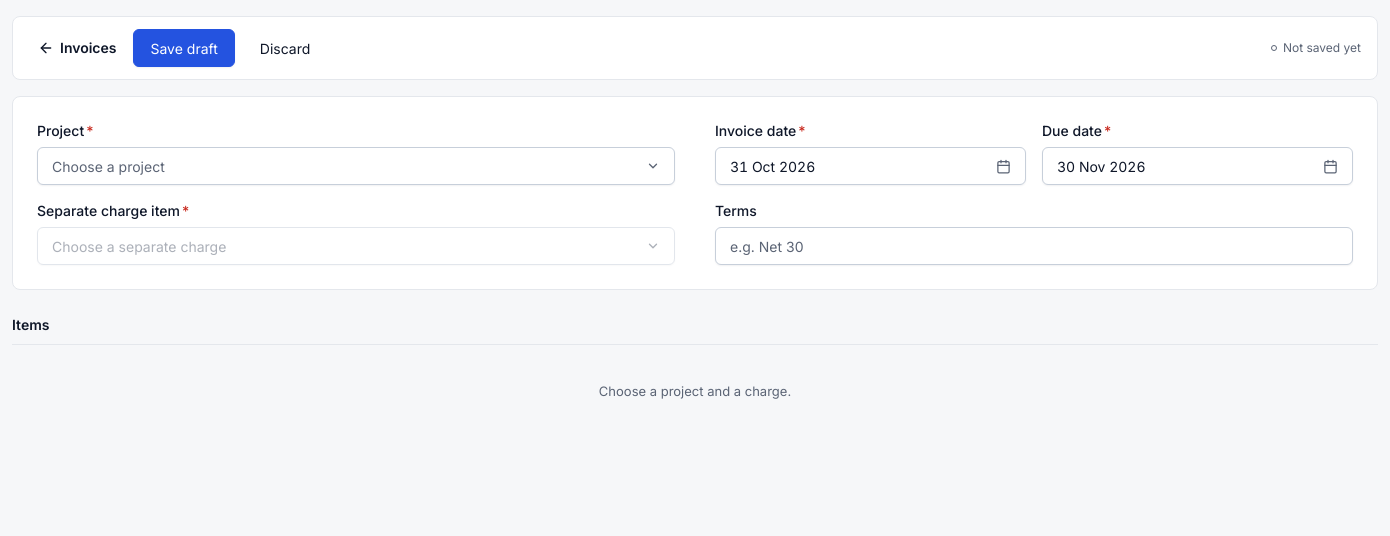
Scenario: InvoiceCreate › shows the source as one read-only line with its amount, and the derived client
This screenshot has width=1390, height=536.
Click the dropdown labelled "Choose a project".
click(108, 166)  # box [37,147,675,185]
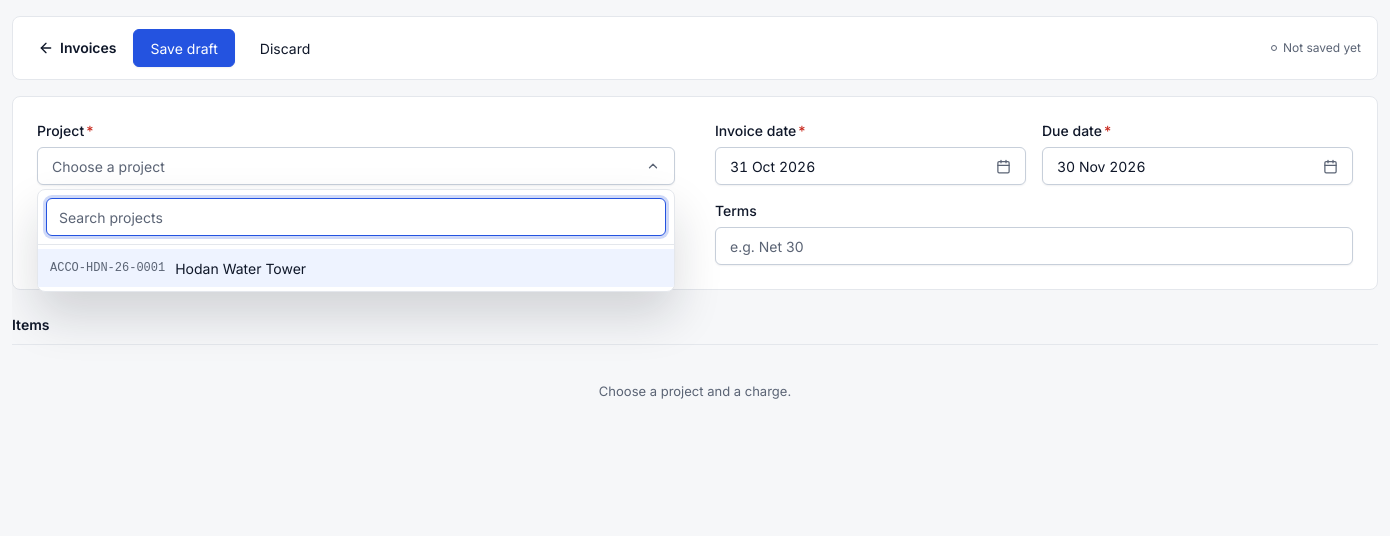
Click the option "ACCO-HDN-26-0001 Hodan Water Tower".
click(108, 268)  # box [38,249,674,287]
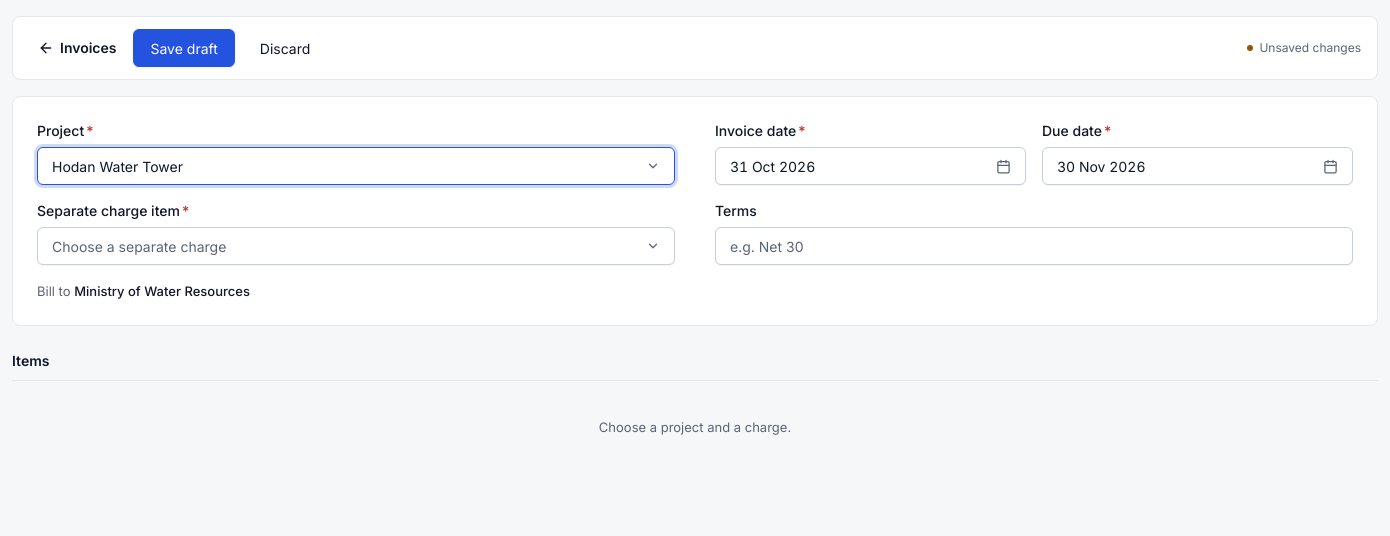
Result: the dropdown named "Separate charge item" is enabled
Click the dropdown named "Separate charge item".
click(139, 246)  # box [37,227,675,265]
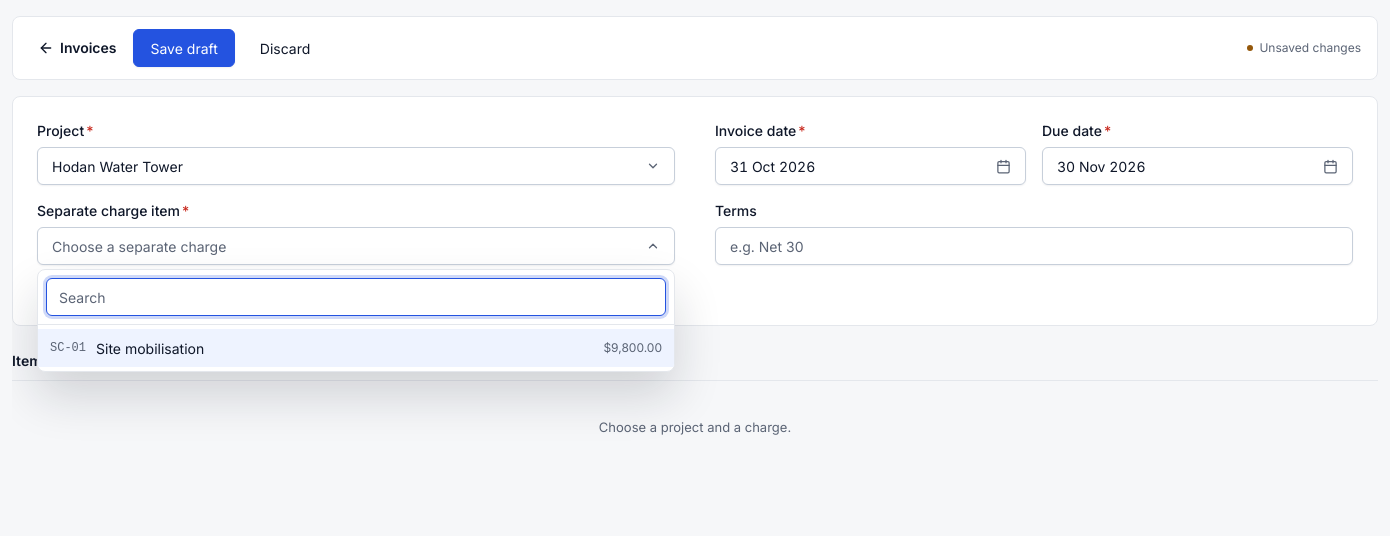
Click the option "SC-01 Site mobilisation $9,800.00".
click(68, 348)  # box [38,329,674,367]
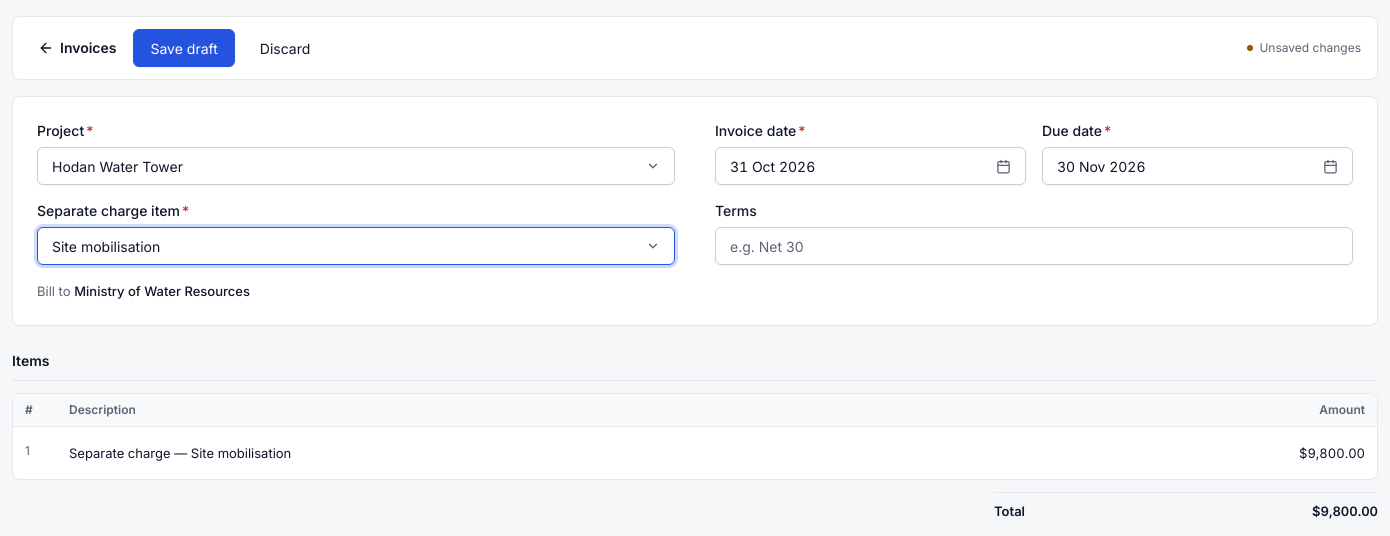
Result: the text "Ministry of Water Resources" is shown at [74,283,250,299]
Result: the text "Separate charge — Site mobilisation" is shown at [69,445,291,461]
Result: the text "$9,800.00" in the row of "Separate charge — Site mobilisation" is shown at [1299,445,1365,461]
